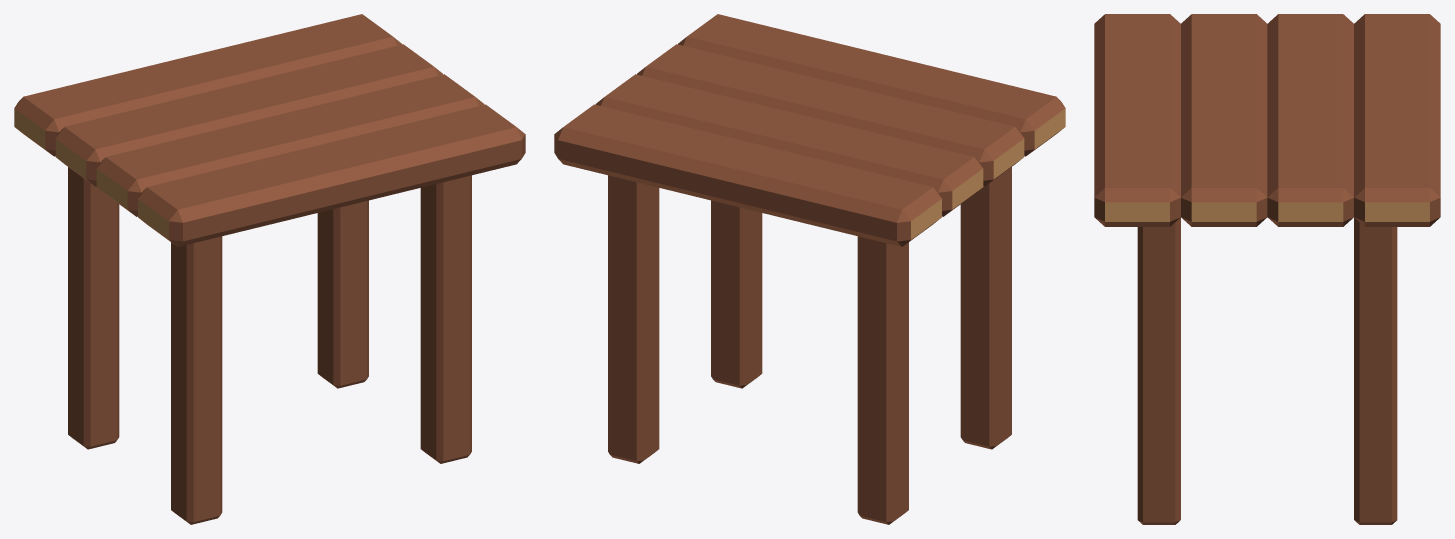
Rendered from Table.fbx.
3 renders of one model, left to right at view 1: azimuth 30°, elevation 25°; view 2: azimuth 150°, elevation 25°; view 3: azimuth 270°, elevation 25°, orthographic. The views are drawn at different scales.
Parts seen in each view (by area): view 1: Table; view 2: Table; view 3: Table.
Boxes of the visible parts, x1=… form: Table: x1=14, y1=14, x2=525, y2=524; Table: x1=554, y1=14, x2=1065, y2=524; Table: x1=1094, y1=14, x2=1440, y2=524.
Size of the model in its own units: 0.5 by 0.45 by 0.4.
